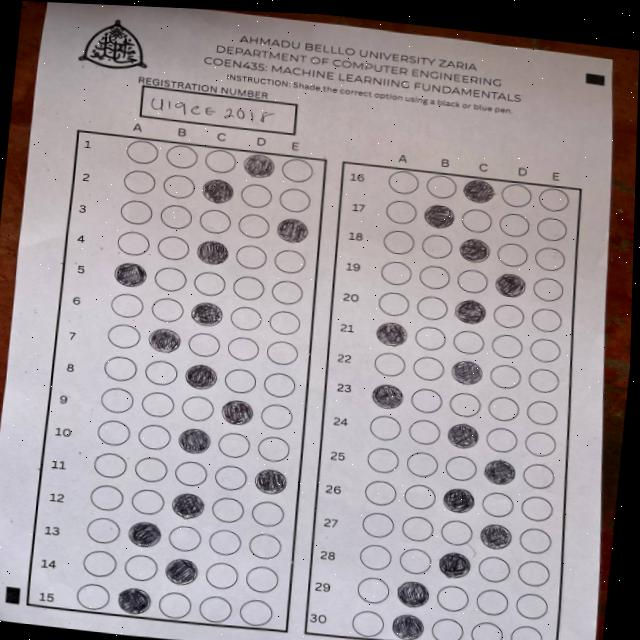bubble: (115, 586, 152, 616), (163, 556, 199, 586), (436, 550, 471, 580), (126, 520, 162, 549), (170, 491, 206, 520), (396, 579, 430, 609), (220, 398, 255, 427), (177, 426, 212, 455), (253, 467, 288, 495), (390, 612, 425, 640), (113, 260, 147, 288), (370, 381, 404, 409), (184, 362, 218, 390), (483, 458, 517, 486), (478, 522, 512, 550), (442, 486, 476, 514), (241, 152, 276, 179), (446, 422, 481, 449), (201, 177, 234, 205), (275, 217, 309, 244), (493, 271, 527, 298), (457, 237, 491, 264), (450, 358, 484, 385), (374, 320, 408, 347), (453, 298, 487, 325), (422, 203, 455, 230), (147, 327, 181, 353), (195, 239, 229, 265), (190, 300, 224, 326), (463, 178, 495, 204)
